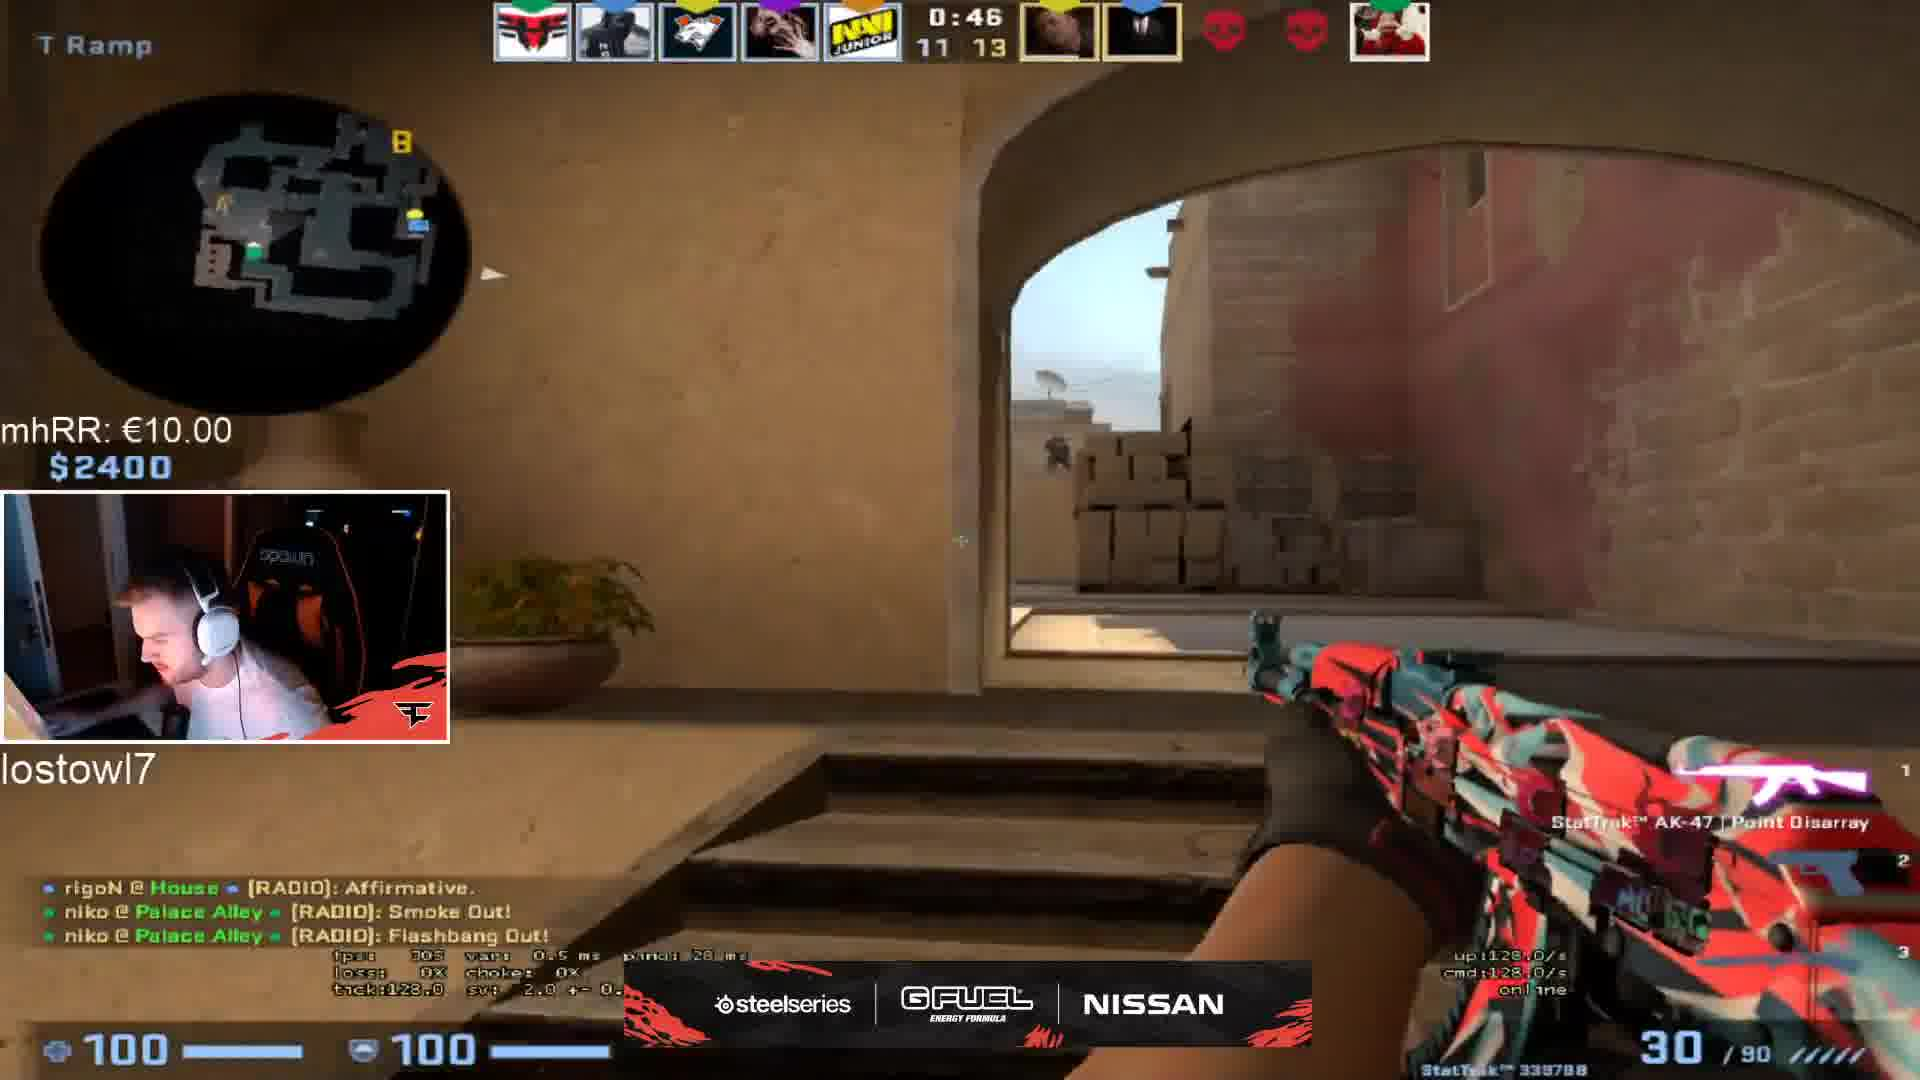enemy: (1046, 436, 1071, 477)
